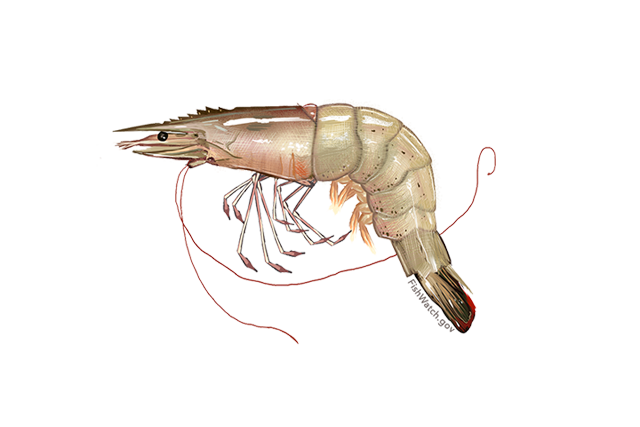White Prawn: (116, 102, 479, 333)
